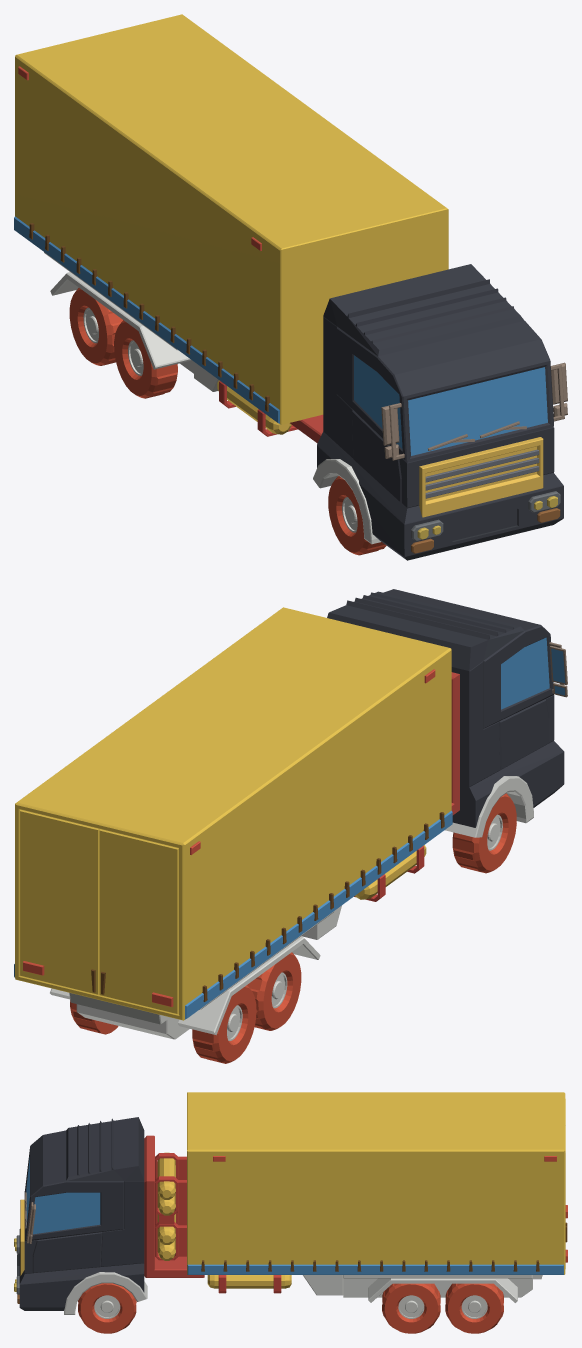
Rendered from truck_a02.gltf.
3 renders of one model, top to bottom at view 1: azimuth 30°, elevation 25°; view 2: azimuth 150°, elevation 25°; view 3: azimuth 270°, elevation 25°, orthographic. The views are drawn at different scales.
Parts seen in each view (by area): view 1: body, wheel_0, wheel_4, wheel_8; view 2: body, wheel_4, wheel_0, wheel_8; view 3: body, wheel_10, wheel_2, wheel_6.
Part boxes in pixels (<box>): body: <box>14,14,567,560</box>; wheel_0: <box>69,289,107,363</box>; wheel_4: <box>114,322,151,395</box>; wheel_8: <box>328,479,364,552</box>; body: <box>14,589,567,1063</box>; wheel_4: <box>263,954,301,1028</box>; wheel_0: <box>218,987,256,1061</box>; wheel_8: <box>479,796,516,870</box>; body: <box>14,1092,567,1333</box>; wheel_10: <box>80,1284,133,1332</box>; wheel_2: <box>448,1284,501,1332</box>; wheel_6: <box>384,1284,438,1332</box>.
Bounding box in the file's own units: 3.29 × 4.55 × 12.11.
Materials: 1 (1 with a texture image).
